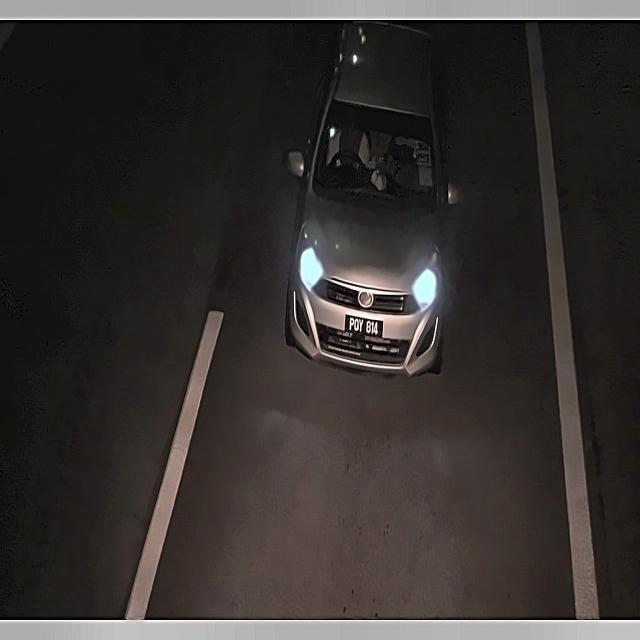car: (342, 309, 387, 343)
